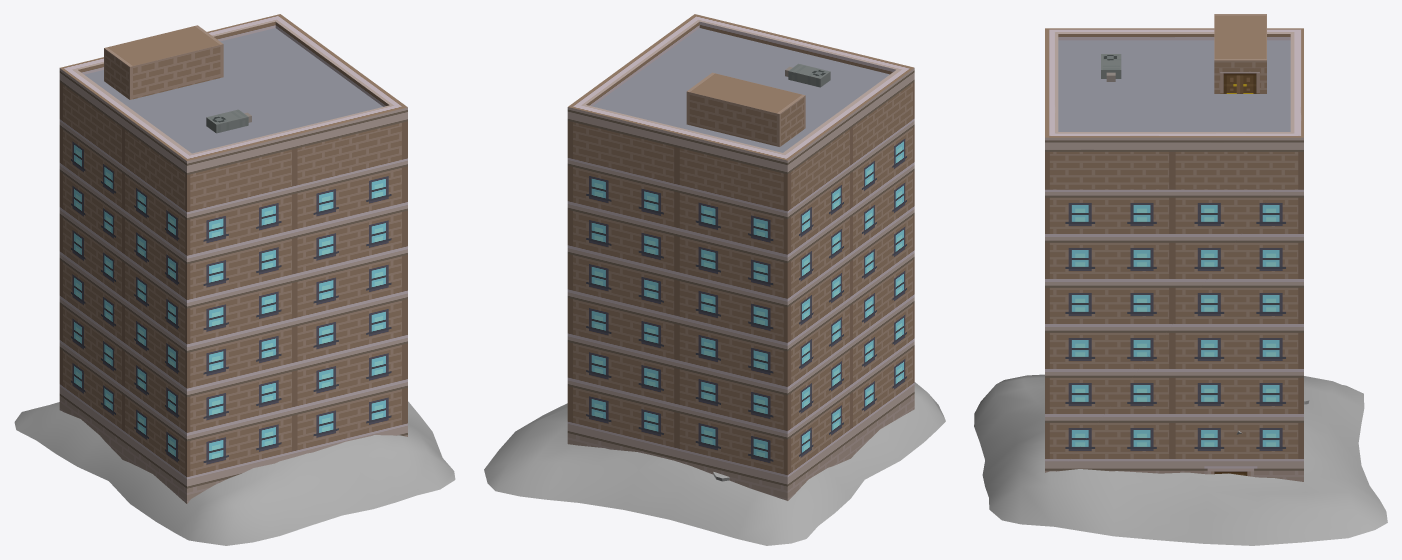
Rendered from Building1.fbx.
3 views of the same model, side by side, from view 1: azimuth 30°, elevation 25°; view 2: azimuth 150°, elevation 25°; view 3: azimuth 270°, elevation 25° (orthographic). The views are drawn at different scales.
Parts seen in each view (by area): view 1: pCube5, polySurface4; view 2: pCube5, polySurface4; view 3: pCube5, polySurface4.
Part boxes in pixels (box(x1,y1,x2,y2)): pCube5: box(59, 14, 407, 503); polySurface4: box(14, 401, 455, 545); pCube5: box(567, 14, 914, 500); polySurface4: box(484, 382, 945, 545); pCube5: box(1045, 14, 1303, 481); polySurface4: box(974, 374, 1387, 545).
Bounding box in the file's own units: 2.18 × 2.47 × 2.33.
